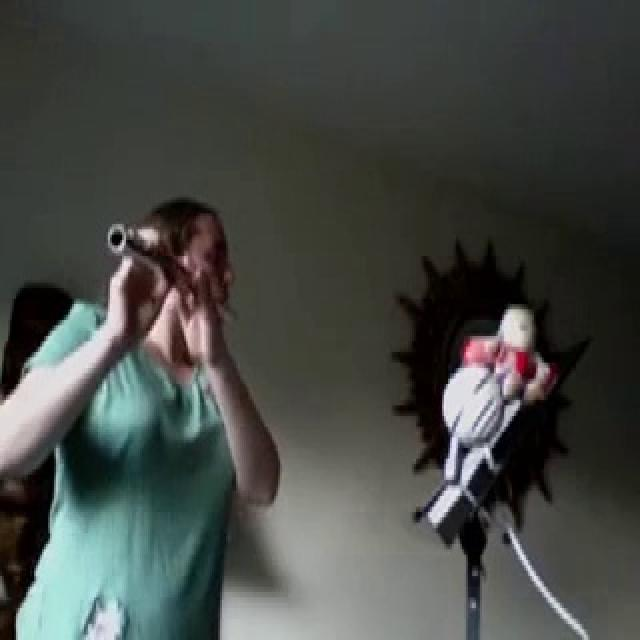Flute: (99, 213, 250, 335)
